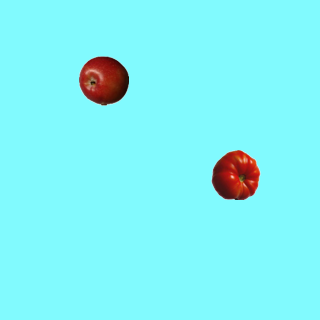Apple Braeburn: (78, 55, 128, 105)
Tomato 3: (210, 149, 260, 199)
